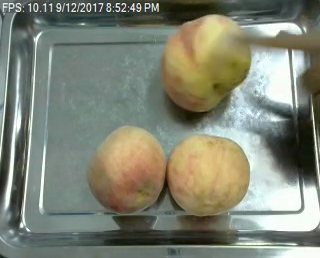Peach: (161, 13, 251, 111), (87, 124, 166, 214), (167, 133, 251, 215)
